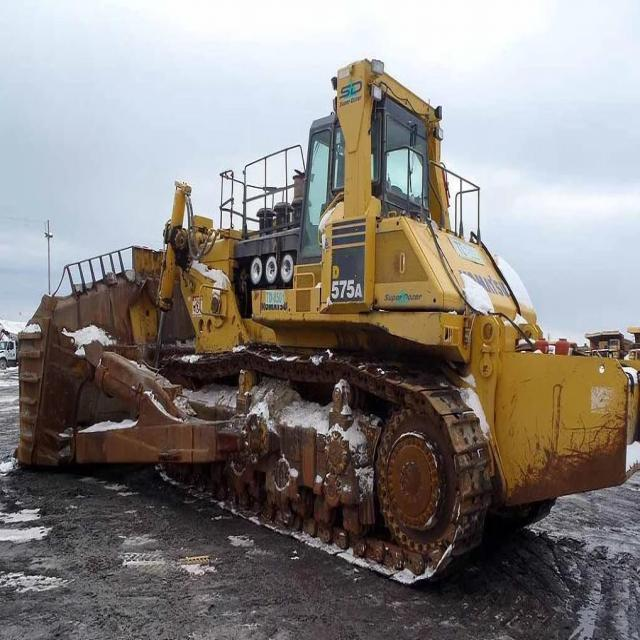Bulldozer: (21, 62, 638, 592)
